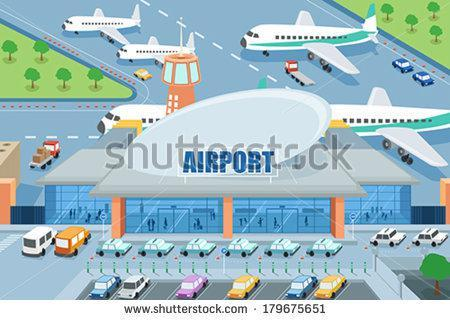aeroplane: (240, 5, 385, 74), (57, 4, 148, 43), (115, 36, 203, 66)
car: (276, 58, 320, 88), (57, 224, 93, 258), (27, 135, 63, 169), (280, 269, 318, 300), (20, 223, 53, 257), (224, 272, 262, 300), (311, 269, 345, 300), (305, 234, 346, 259), (369, 223, 406, 250), (117, 273, 153, 299), (262, 236, 300, 260), (175, 272, 210, 298), (179, 235, 216, 258), (139, 235, 175, 258), (89, 273, 120, 299), (222, 236, 260, 257), (409, 223, 442, 247), (98, 235, 134, 256), (125, 65, 155, 83), (411, 69, 435, 88), (391, 57, 414, 73)
